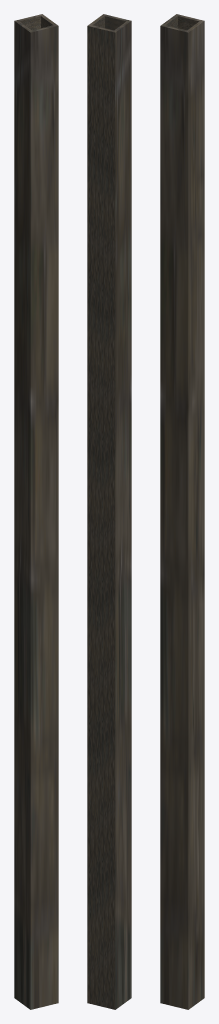
File: Walls.glb
The picture shows the model from 3 angles, left to right: view 1: azimuth 30°, elevation 25°; view 2: azimuth 150°, elevation 25°; view 3: azimuth 330°, elevation 25°; orthographic projection.
Visible parts, largest first — view 1: Walls; view 2: Walls; view 3: Walls.
Part boxes in pixels (<box>): Walls: <box>14,14,58,1009</box>; Walls: <box>87,14,131,1009</box>; Walls: <box>160,14,204,1009</box>.
Bounding box in the file's own units: 30 × 1000 × 30.
Materials: 1 (1 with a texture image).
